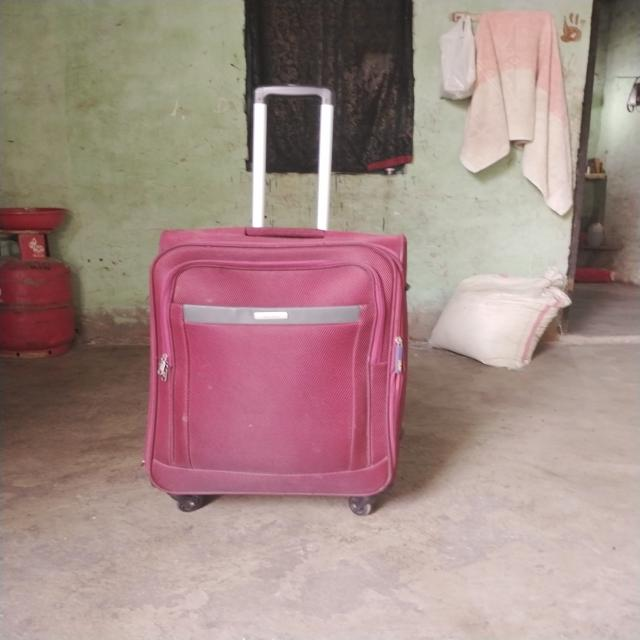suitcaserotation: (140, 78, 413, 520)
